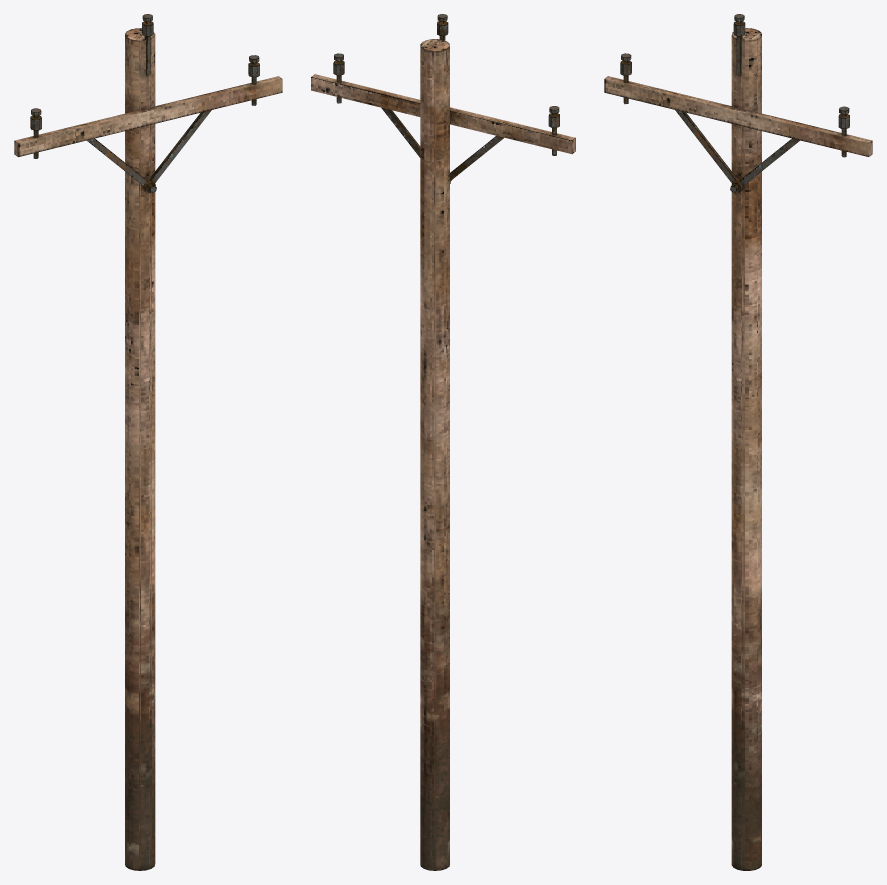
The model's file is E_Pole_1.glb.
The picture shows the model from 3 angles, left to right: view 1: azimuth 30°, elevation 25°; view 2: azimuth 150°, elevation 25°; view 3: azimuth 330°, elevation 25°; orthographic projection.
Visible parts, largest first — view 1: E_Pole_1; view 2: E_Pole_1; view 3: E_Pole_1.
Part boxes in pixels (left/top/right/bottom): E_Pole_1: left=14, top=14, right=282, bottom=870; E_Pole_1: left=311, top=14, right=575, bottom=870; E_Pole_1: left=604, top=14, right=872, bottom=870.
Bounding box in the file's own units: 2 × 6.17 × 0.2758.
1 material, 1 textured.
